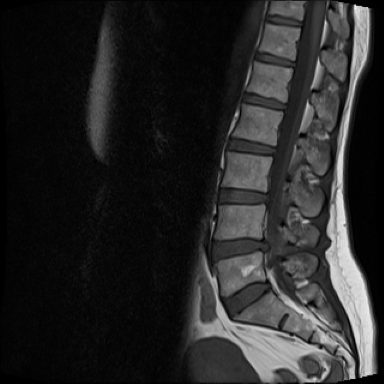Lumbar Disc Bulge (LDB): (202, 234, 276, 265)
Normal IVD: (217, 277, 276, 322), (222, 131, 281, 161), (213, 184, 271, 208), (239, 89, 290, 115), (252, 46, 299, 72), (263, 16, 305, 30)
Spinal Stenosis (SS): (257, 232, 276, 256)
